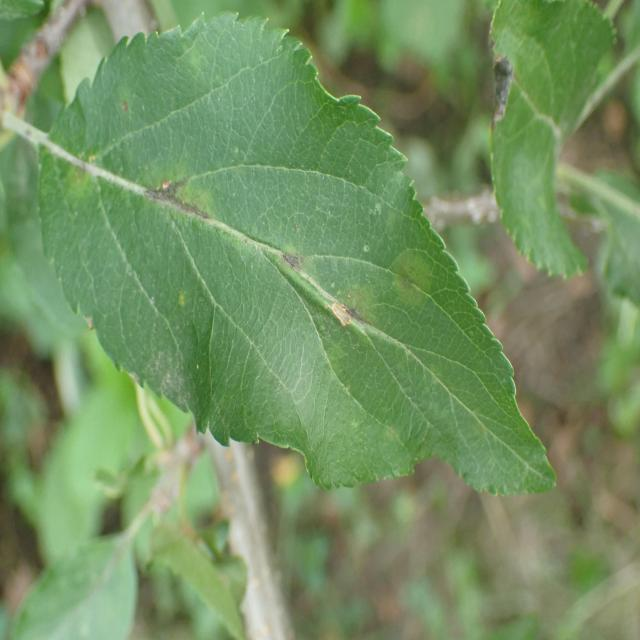scab: (56, 80, 494, 458)
